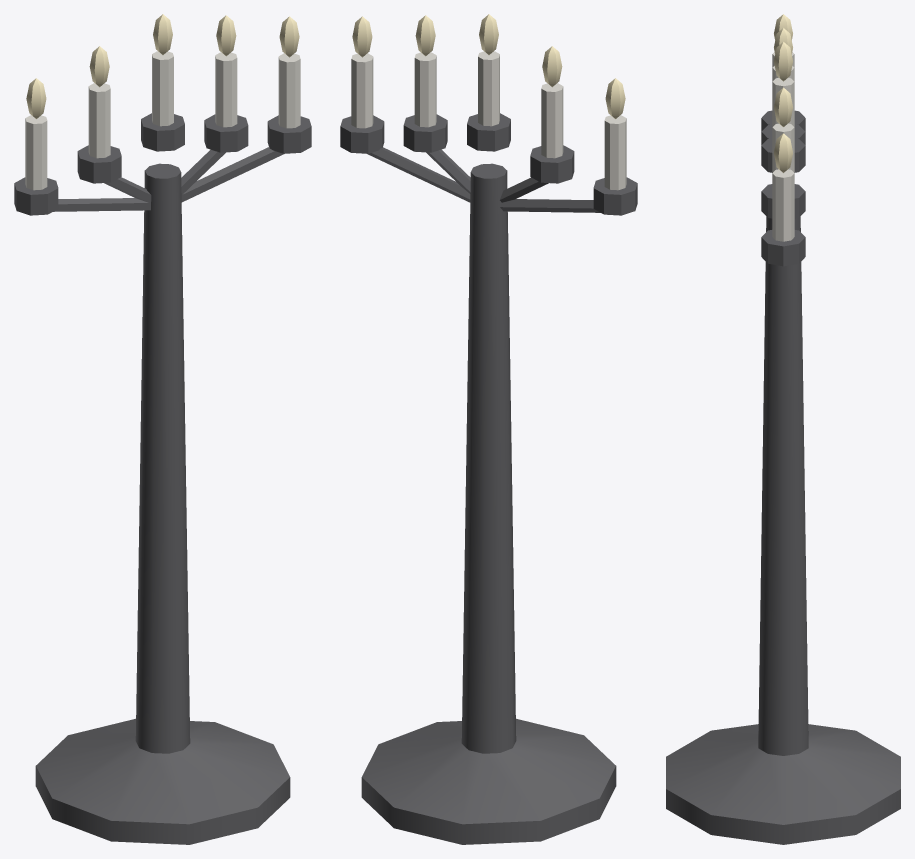
Rendered from candelabra.gltf.
3 renders of one model, left to right at view 1: azimuth 30°, elevation 25°; view 2: azimuth 150°, elevation 25°; view 3: azimuth 270°, elevation 25°, orthographic. The views are drawn at different scales.
Visible parts, largest first — view 1: Body; view 2: Body; view 3: Body.
Part boxes in pixels (x1,y1,x2,y2): Body: (14,14,311,844); Body: (340,14,637,844); Body: (666,14,900,844).
Size of the model in its own units: 0.74 by 1.88 by 0.5326.
